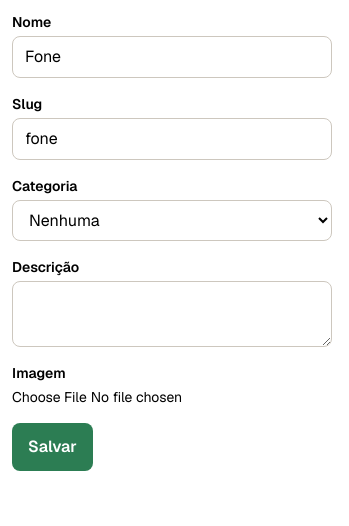
it: ProductForm › erro de negócio no submit (409): mostra a mensagem da API
The width and height of the screenshot is (349, 526).
Click the button "Salvar" at (52, 447), box [12, 423, 93, 471]
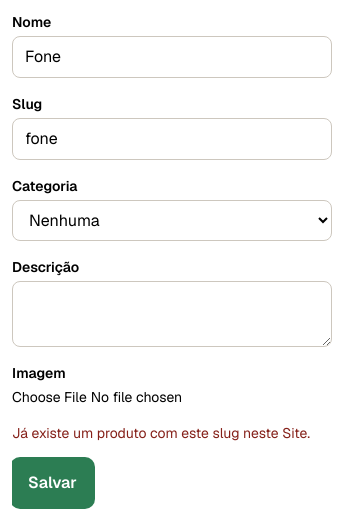
Expected: the text "Já existe um produto com este slug neste Site." is shown, [12, 423, 332, 443]
